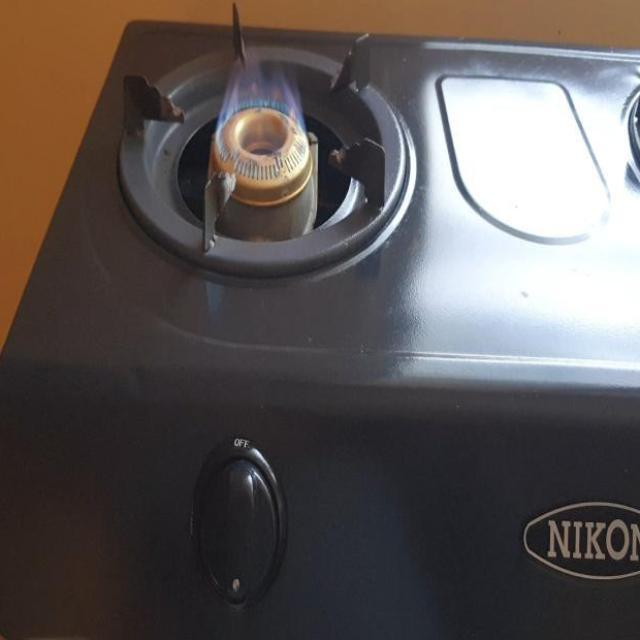smoke: (211, 40, 314, 198)
